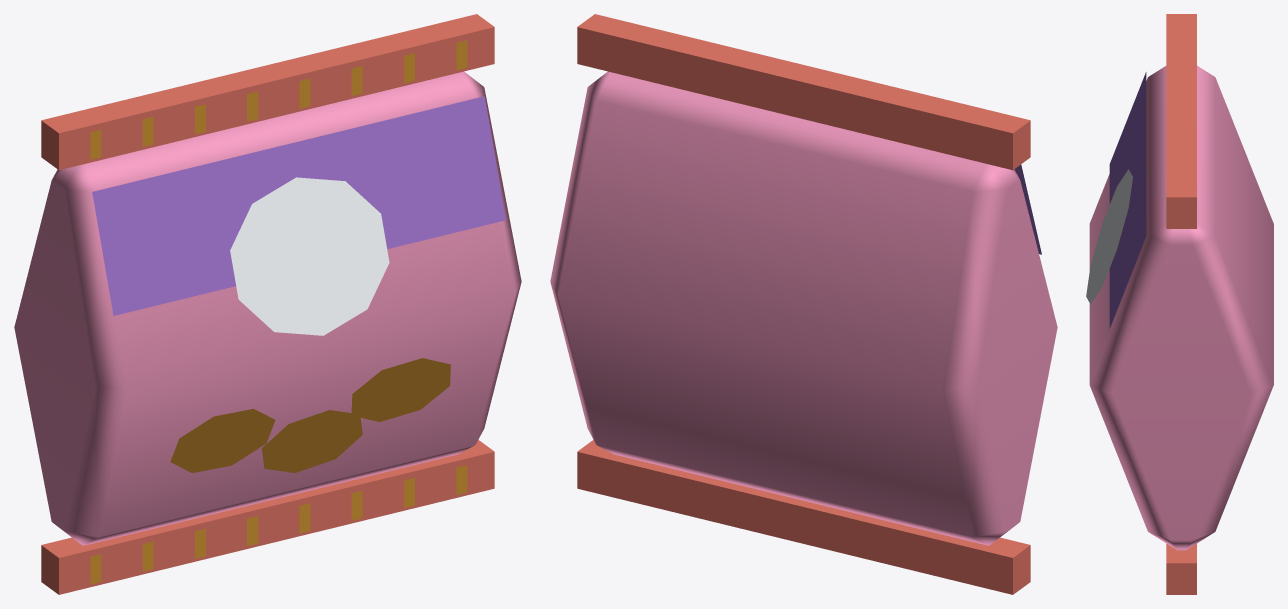
The model's file is CM_Product_CandyBag.fbx.
3 renders of one model, left to right at view 1: azimuth 30°, elevation 25°; view 2: azimuth 150°, elevation 25°; view 3: azimuth 270°, elevation 25°, orthographic. The views are drawn at different scales.
Parts seen in each view (by area): view 1: CandyBag; view 2: CandyBag; view 3: CandyBag.
Boxes of the visible parts, bbox=[...] form: CandyBag: bbox=[14, 14, 521, 594]; CandyBag: bbox=[550, 14, 1057, 594]; CandyBag: bbox=[1086, 14, 1273, 594].
Bounding box in the file's own units: 1.98 × 0.8557 × 2.
Materials: 1 (1 with a texture image).
